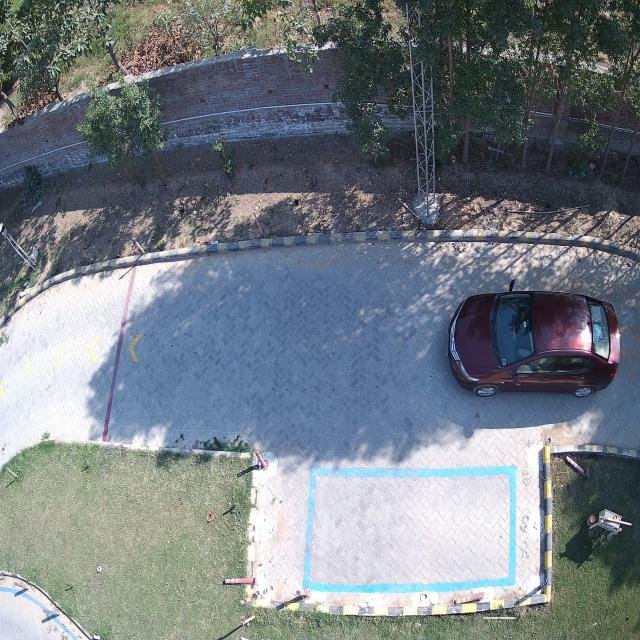car: (451, 292, 622, 395)
